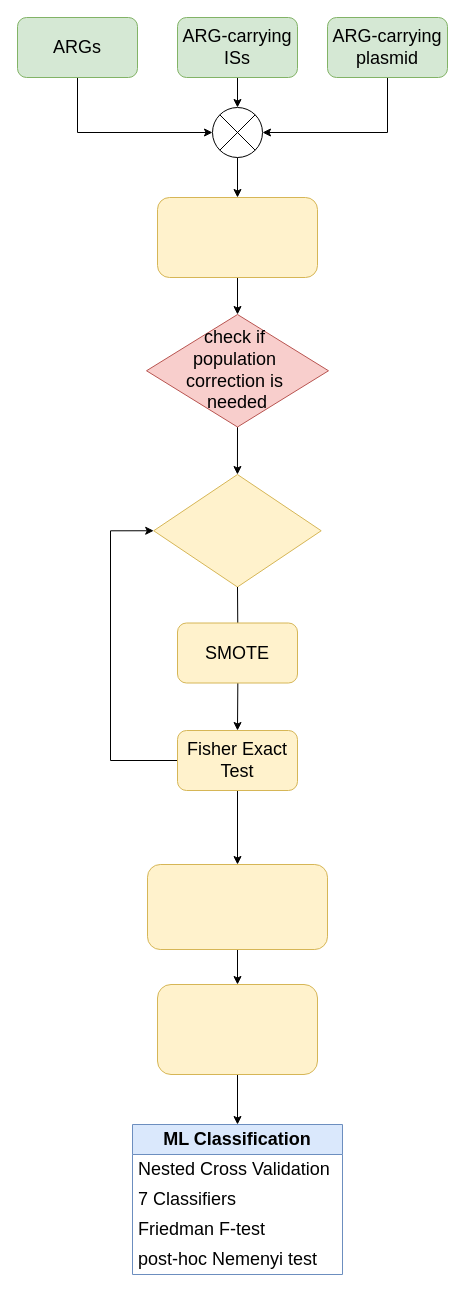
Some shapes in this 465 by 1292 pixel diagram are drawn without their labels. Each missing label, with the centre of its shape:
"for loop 1000 random seeds" goes at pixel 237 530.
"Randomly select the initilization that contains all features" goes at pixel 237 1029.
"Select features present in more than 750 initializations" goes at pixel 237 907.
"Variance Feature Selection (threshold = 0)" goes at pixel 237 237.
